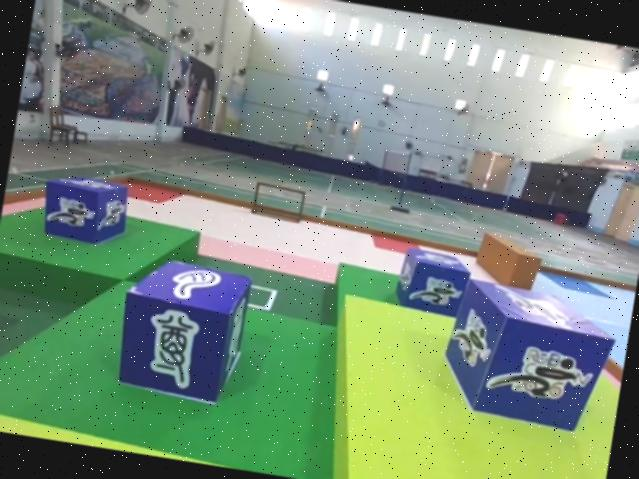R1 Blue: (438, 280, 621, 440), (36, 173, 131, 252), (391, 247, 473, 321)
R2 Fake Blue: (110, 253, 254, 410)
